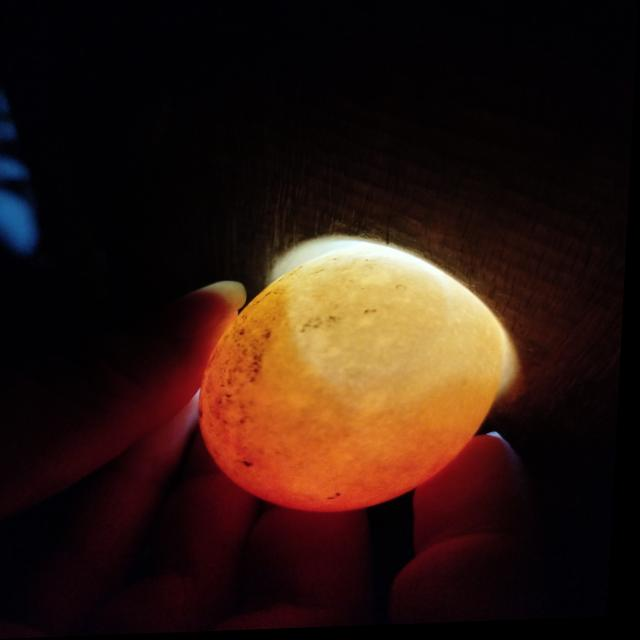Camara de Ar: (293, 251, 450, 388)
